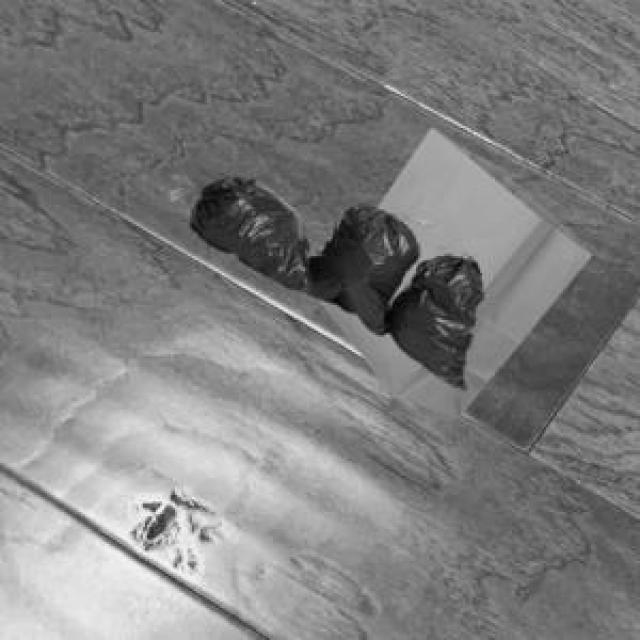miscellaneous trash: (186, 173, 480, 386)
paper: (318, 124, 587, 412)
